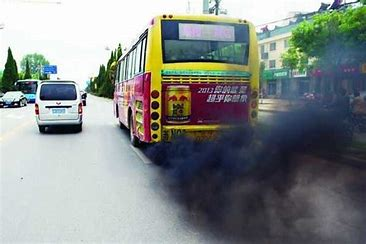smoke: (149, 91, 366, 244)
